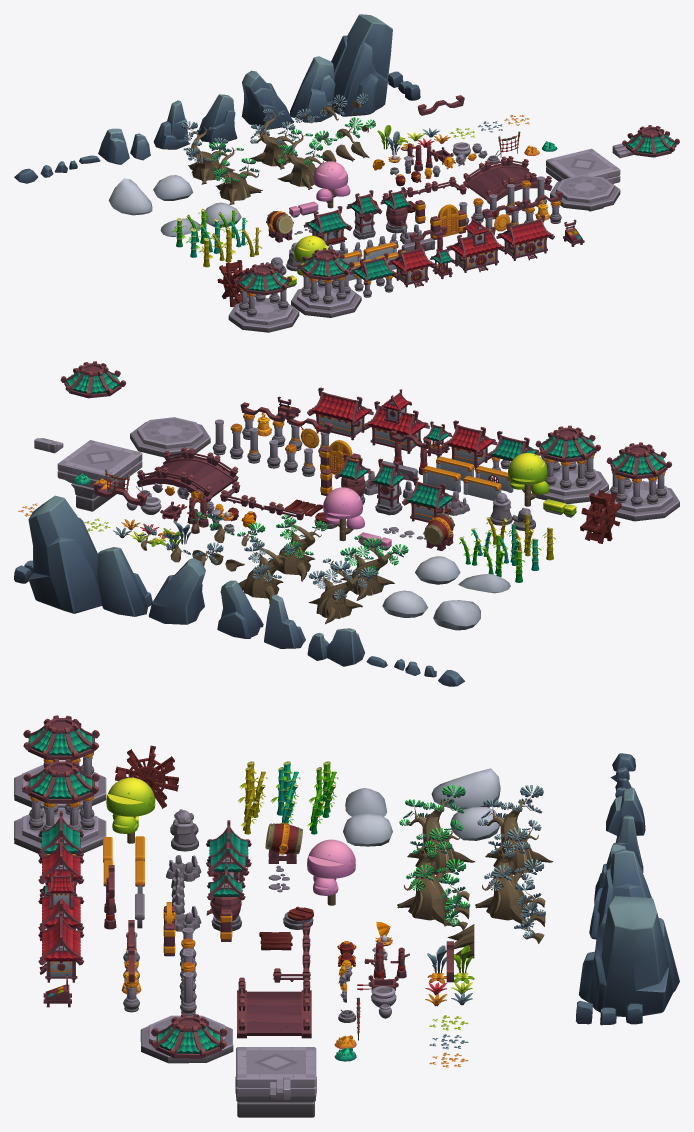
File: AsianPack.glb
3 renders of one model, top to bottom at view 1: azimuth 30°, elevation 25°; view 2: azimuth 150°, elevation 25°; view 3: azimuth 270°, elevation 25°, orthographic. The views are drawn at different scales.
Visible parts, largest first — view 1: rock_big_3, altar2, altar, bridge, rock_big_2, rock_big_1, platform, building_2, bridge_stone, building_1, ancient_tree_1, ancient_tree_winter_1 (+20 smaller); view 2: rock_big_3, altar, altar2, bridge_stone, bridge, rock_big_2, rock_big_1, platform, ancient_tree_winter_1, building_2, ancient_tree_1, building_1 (+28 smaller); view 3: rock_big_3, altar2, bridge_stone, altar, bridge, ancient_tree_winter_2, ancient_tree_2, ancient_tree_1, ancient_tree_winter_1, roof, rock_big_1, building_1 (+21 smaller).
Boxes of the visible parts, x1=… form: rock_big_3: x1=331, y1=14, x2=392, y2=116; altar2: x1=291, y1=248, x2=361, y2=317; altar: x1=228, y1=262, x2=299, y2=332; bridge: x1=463, y1=156, x2=552, y2=204; rock_big_2: x1=290, y1=56, x2=335, y2=122; rock_big_1: x1=241, y1=70, x2=294, y2=129; platform: x1=550, y1=175, x2=620, y2=210; building_2: x1=447, y1=216, x2=505, y2=272; bridge_stone: x1=546, y1=148, x2=620, y2=211; building_1: x1=496, y1=214, x2=554, y2=260; ancient_tree_1: x1=209, y1=141, x2=262, y2=204; ancient_tree_winter_1: x1=181, y1=121, x2=234, y2=184; rock_big_3: x1=28, y1=495, x2=101, y2=613; altar: x1=606, y1=442, x2=679, y2=521; altar2: x1=531, y1=425, x2=608, y2=504; bridge_stone: x1=57, y1=440, x2=142, y2=511; bridge: x1=136, y1=447, x2=238, y2=502; rock_big_2: x1=96, y1=547, x2=152, y2=616; rock_big_1: x1=148, y1=558, x2=205, y2=624; platform: x1=130, y1=417, x2=210, y2=457; ancient_tree_winter_1: x1=308, y1=558, x2=376, y2=624; building_2: x1=363, y1=389, x2=429, y2=453; ancient_tree_1: x1=340, y1=535, x2=408, y2=600; building_1: x1=307, y1=387, x2=373, y2=440; rock_big_3: x1=579, y1=896, x2=679, y2=1016; altar2: x1=14, y1=758, x2=106, y2=853; bridge_stone: x1=235, y1=1047, x2=316, y2=1117; altar: x1=14, y1=715, x2=106, y2=809; bridge: x1=237, y1=977, x2=311, y2=1038; ancient_tree_winter_2: x1=475, y1=841, x2=544, y2=926; ancient_tree_2: x1=397, y1=841, x2=466, y2=926; ancient_tree_1: x1=399, y1=785, x2=474, y2=874; ancient_tree_winter_1: x1=477, y1=785, x2=552, y2=874; roof: x1=151, y1=1013, x2=227, y2=1058; rock_big_1: x1=589, y1=849, x2=651, y2=939; building_1: x1=38, y1=911, x2=84, y2=982.
Bounding box in the file's own units: 53.07 × 11.2 × 43.39.
Materials: 1 (1 with a texture image).
